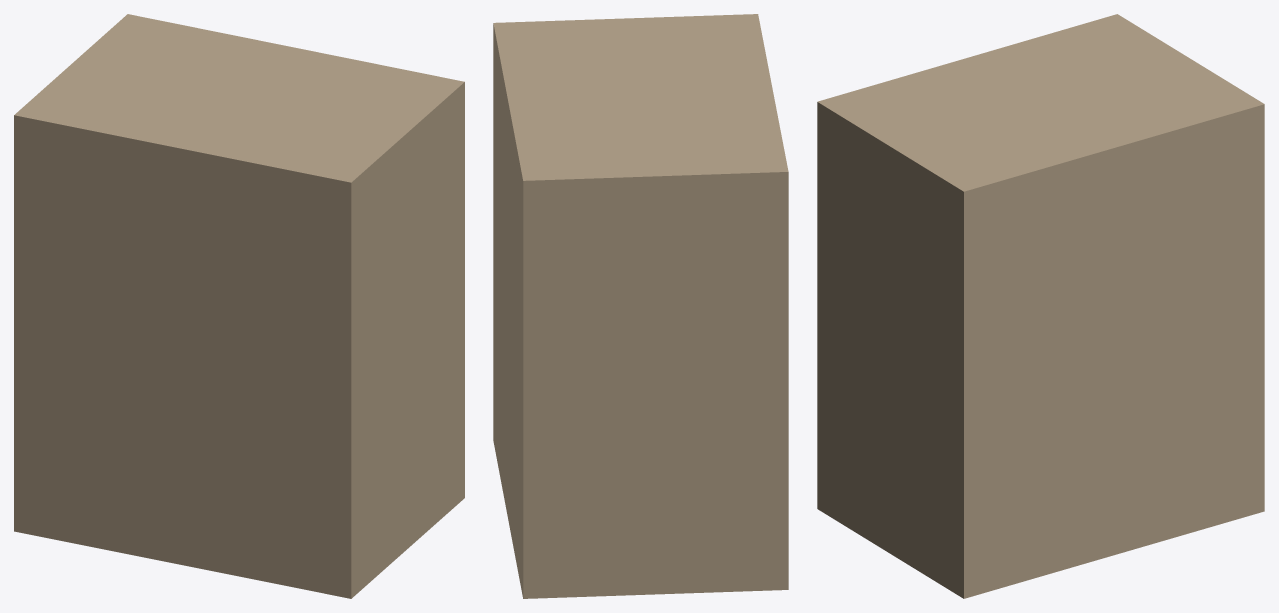
File: bld_1536411854.dae
The picture shows the model from 3 angles, left to right: view 1: azimuth 30°, elevation 25°; view 2: azimuth 150°, elevation 25°; view 3: azimuth 270°, elevation 25°; orthographic projection. The views are drawn at different scales.
Visible parts, largest first — view 1: bld_1536411854; view 2: bld_1536411854; view 3: bld_1536411854.
Boxes of the visible parts, bbox=[...] form: bld_1536411854: bbox=[14, 14, 464, 598]; bld_1536411854: bbox=[493, 14, 788, 598]; bld_1536411854: bbox=[817, 14, 1264, 598].
Size of the model in its own units: 7.49 by 7.97 by 8.
